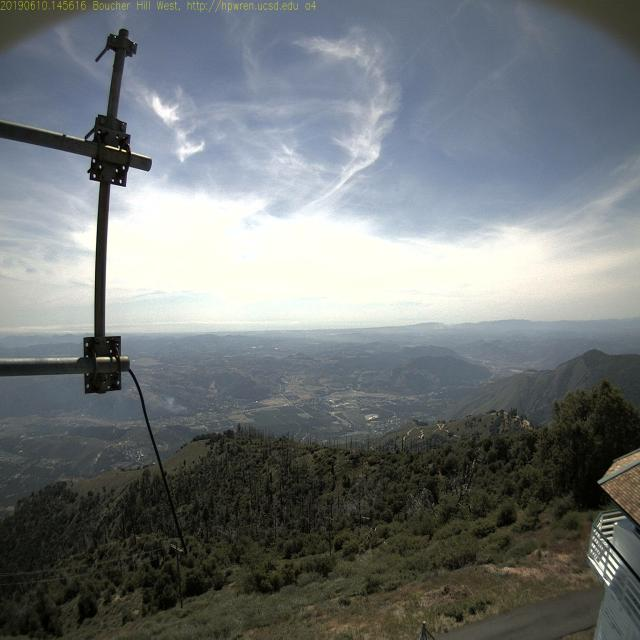smoke: (176, 394, 198, 426)
